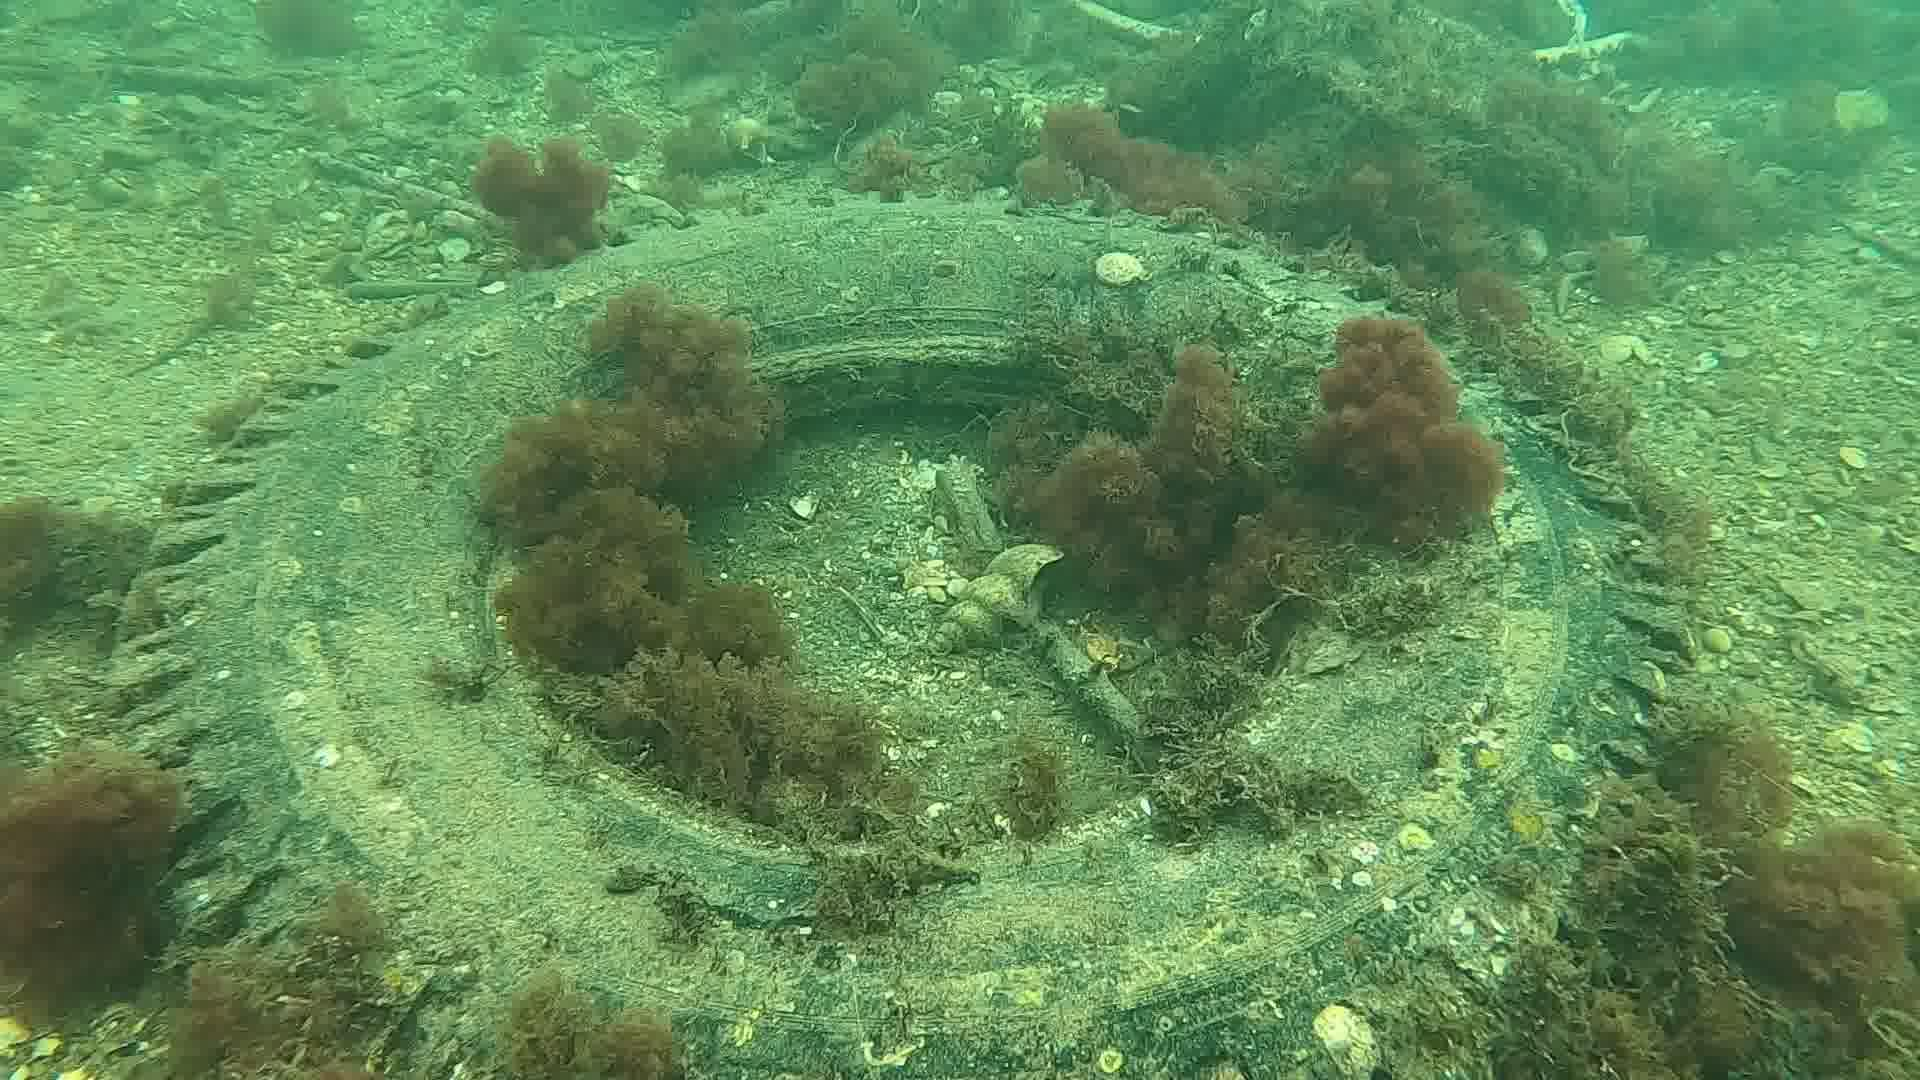tire: (107, 185, 1695, 1080)
